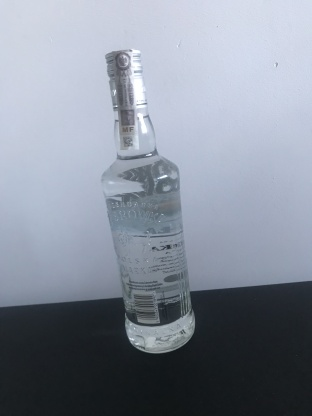nakretka: (103, 45, 149, 112)
